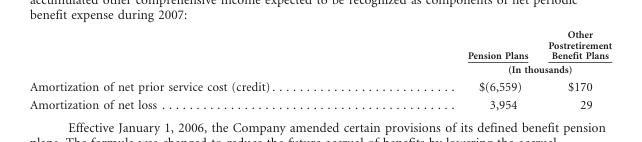table: (28, 28, 611, 110)
table column: (28, 28, 370, 110), (370, 28, 537, 110), (537, 28, 611, 110)
table column header: (28, 28, 611, 76)
table row: (28, 28, 611, 61), (28, 76, 611, 95), (28, 61, 611, 76), (28, 95, 611, 110)
table spanning cell: (370, 61, 611, 76)
